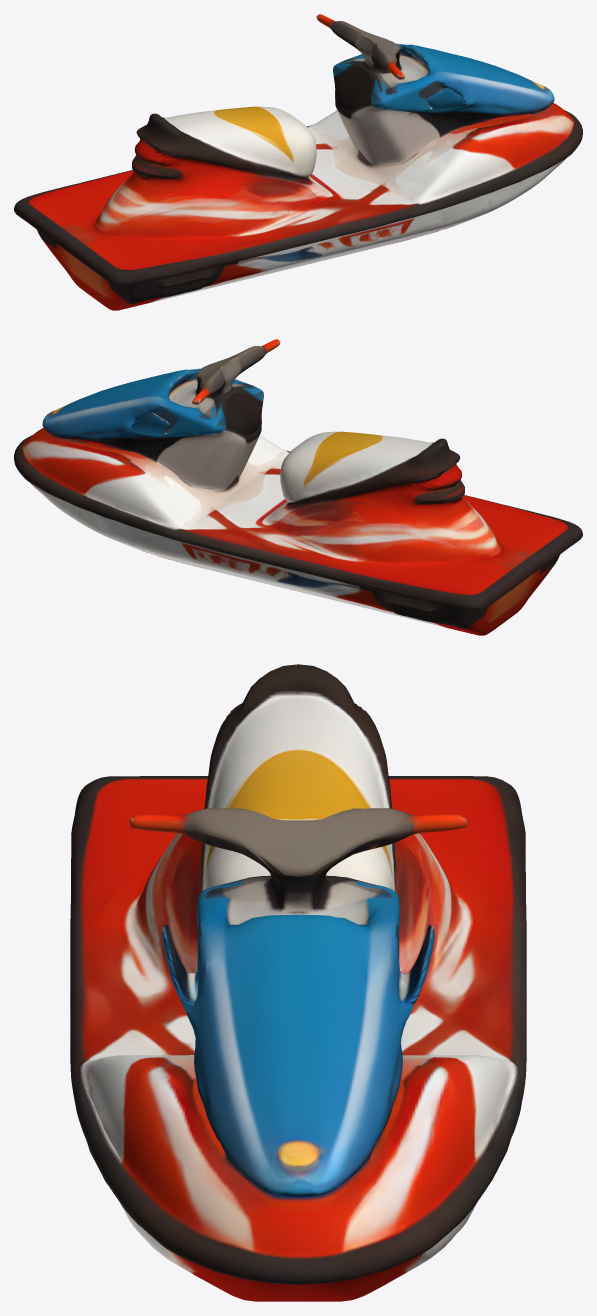
Rendered from jetski.glb.
The picture shows the model from 3 angles, top to bottom: view 1: azimuth 30°, elevation 25°; view 2: azimuth 150°, elevation 25°; view 3: azimuth 270°, elevation 25°; orthographic projection. The views are drawn at different scales.
Parts seen in each view (by area): view 1: jetski; view 2: jetski; view 3: jetski.
Boxes of the visible parts, x1,y1,x2,y2 form: jetski: [14, 14, 582, 310]; jetski: [14, 339, 582, 635]; jetski: [70, 664, 526, 1301].
Bounding box in the file's own units: 3.3 × 1.21 × 1.27.
Materials: 1 (1 with a texture image).
